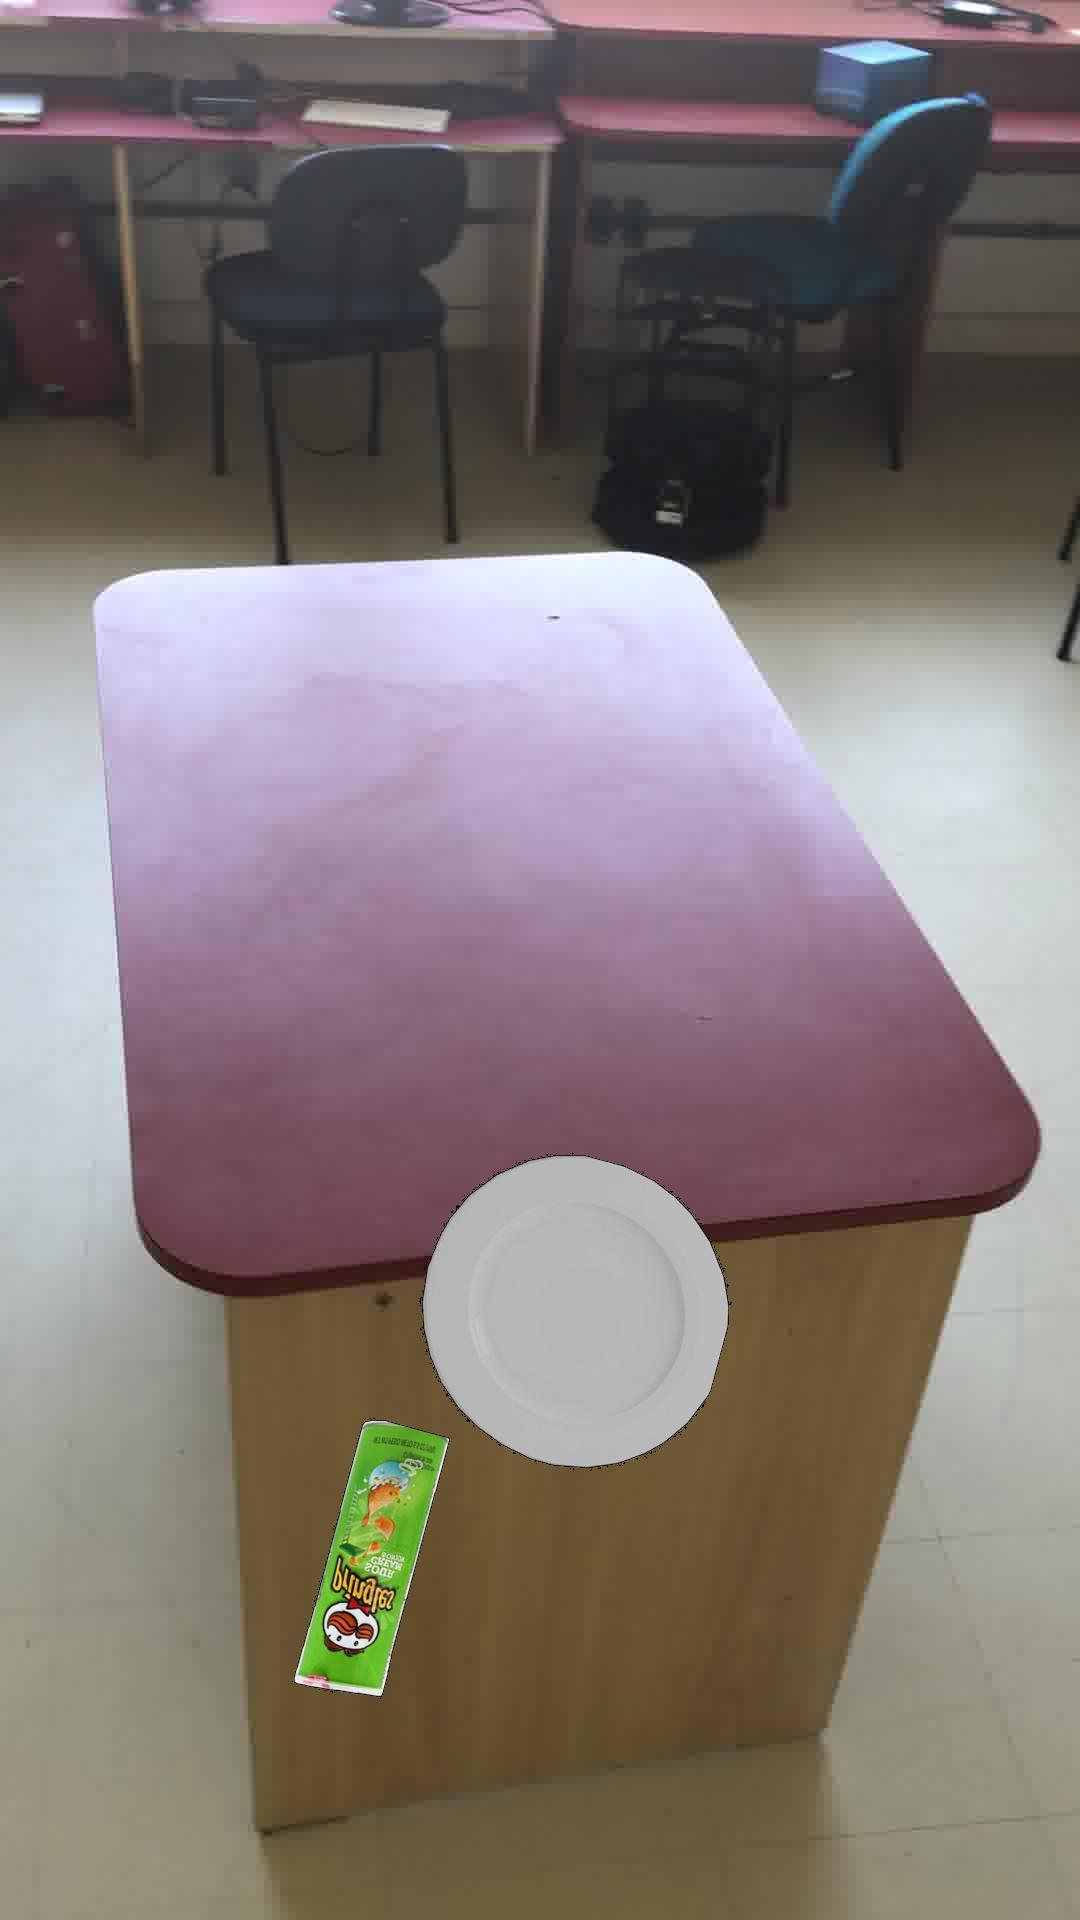plate: (419, 1154, 731, 1466)
pringles: (293, 1419, 448, 1696)
